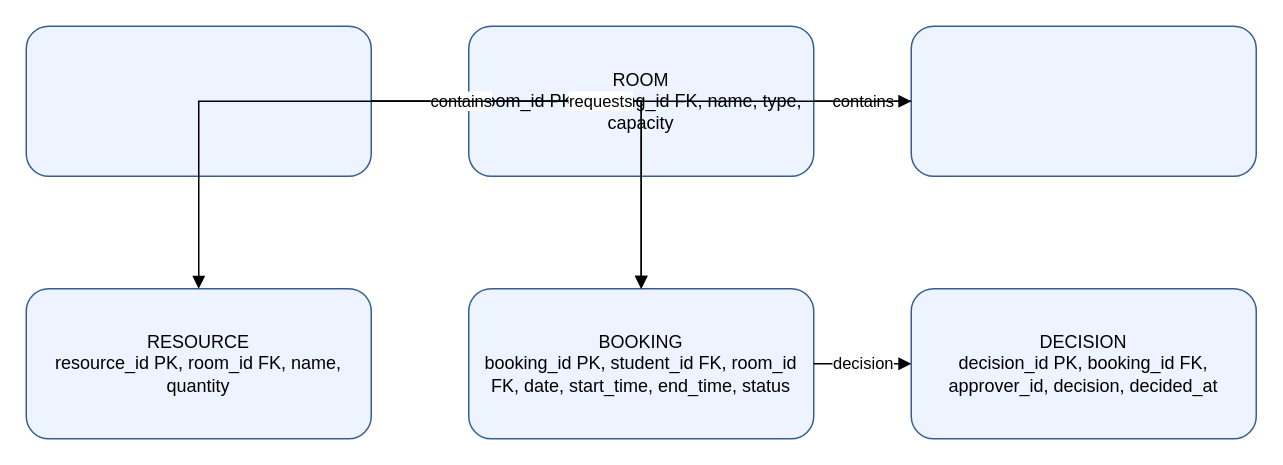
The diagram is 1283 pixels wide and 465 high, and some of its shapes have lost their labels. The shapes that lost their labels are listed below. From the top down, each one's box as (x1, y1, x2, y2) in pixels, then its label:
(25, 25, 371, 176): STUDENT student_id PK, name, email
(910, 25, 1256, 176): BUILDING building_id PK, name, location
